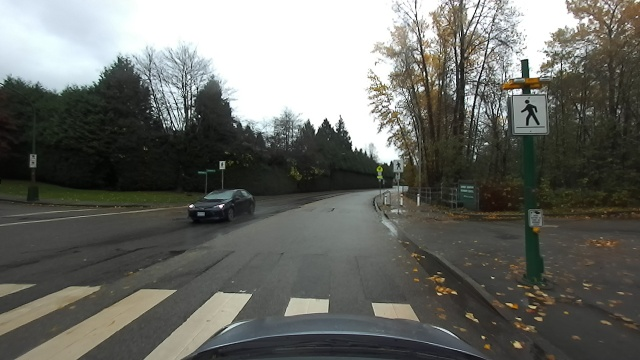car: (184, 187, 262, 224)
